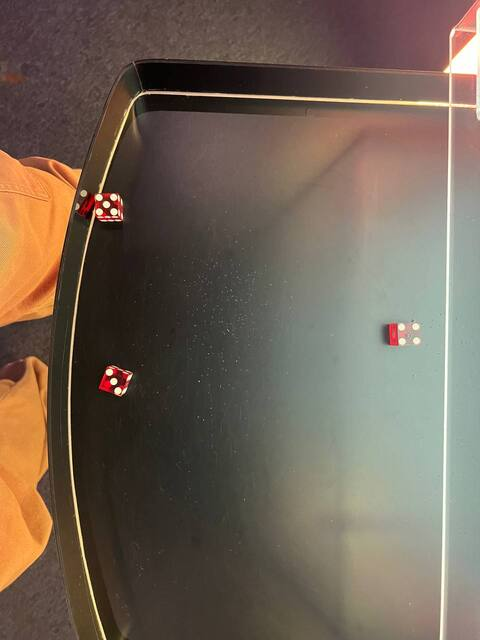five: (91, 189, 122, 218)
four: (392, 318, 425, 351)
three: (93, 364, 128, 397)
